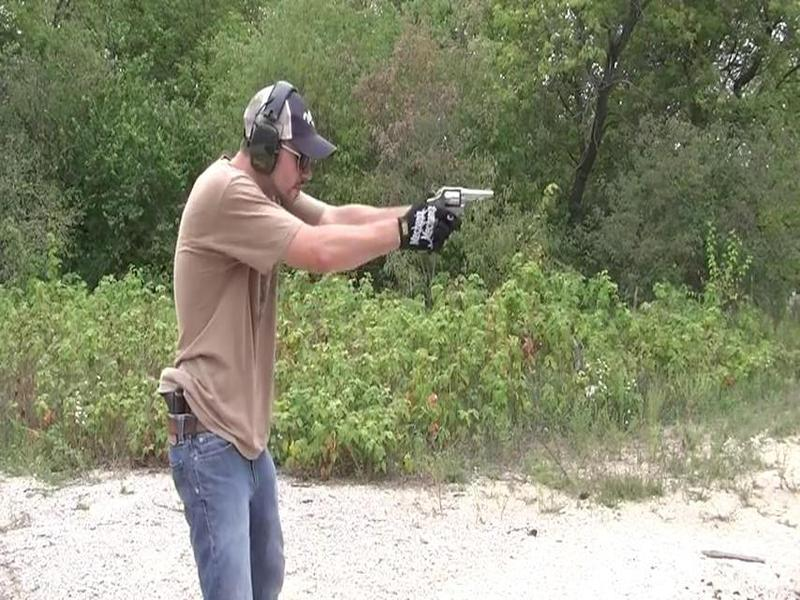Revolver: (424, 178, 504, 230)
